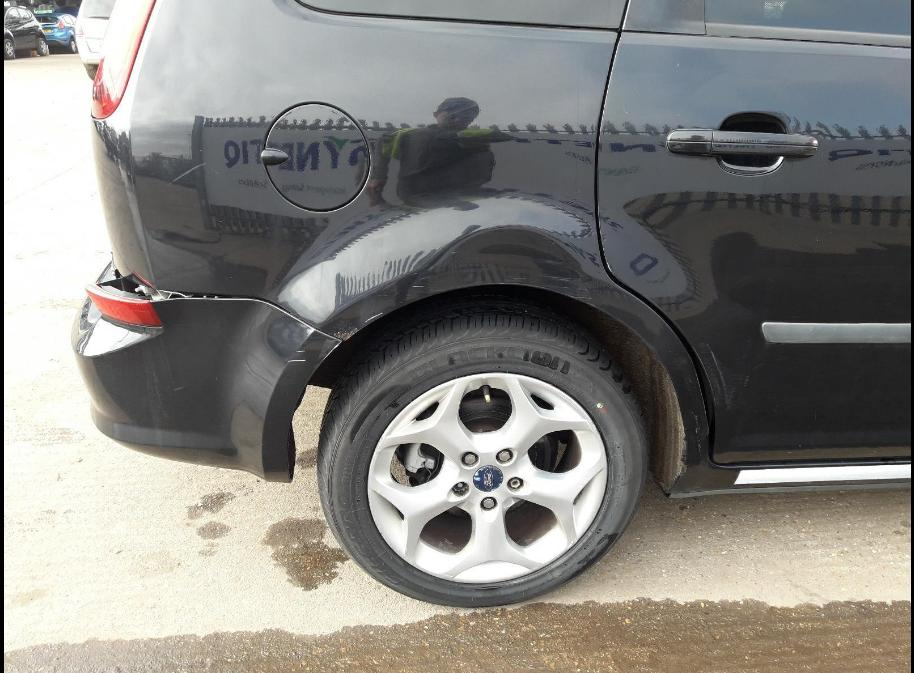Back-bumper: (72, 265, 341, 484)
Back-door: (593, 0, 913, 465)
Back-wheel: (320, 303, 649, 603)
Back-window: (704, 0, 913, 48), (297, 0, 628, 30)
Quarter-panel: (89, 1, 714, 471)
Rocker-panel: (669, 459, 911, 498)
Tail-light: (75, 0, 155, 119)
